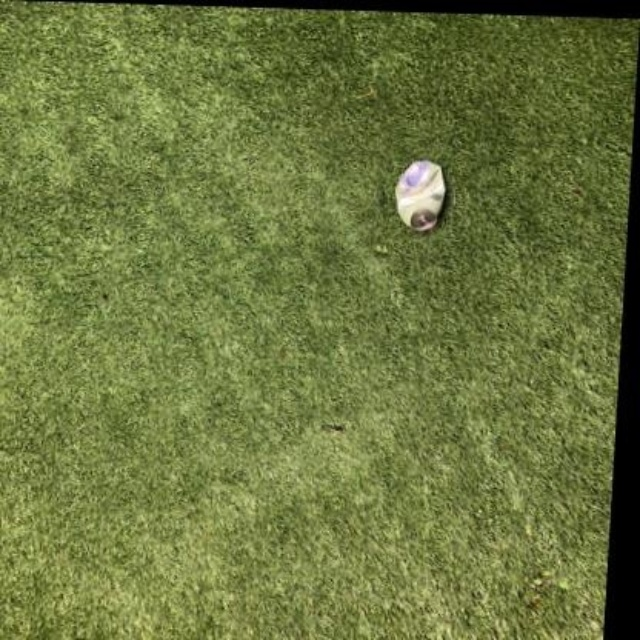trash: (395, 160, 445, 231)
